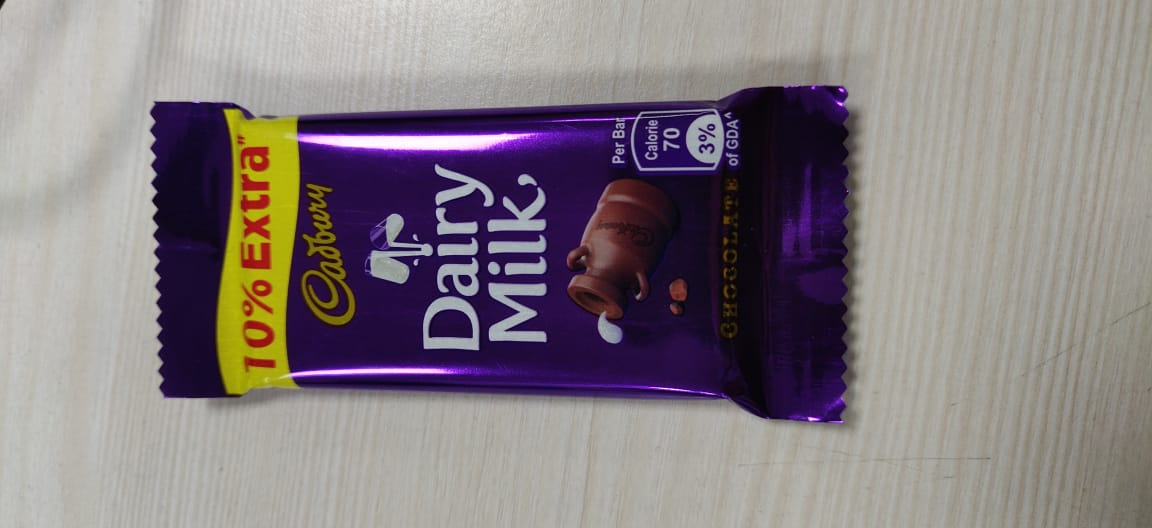dairy milk: (140, 76, 876, 430)
